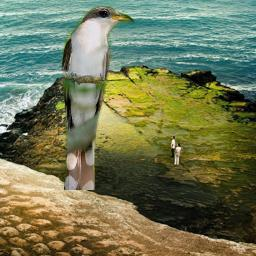Cuckoo: (60, 5, 135, 190)
